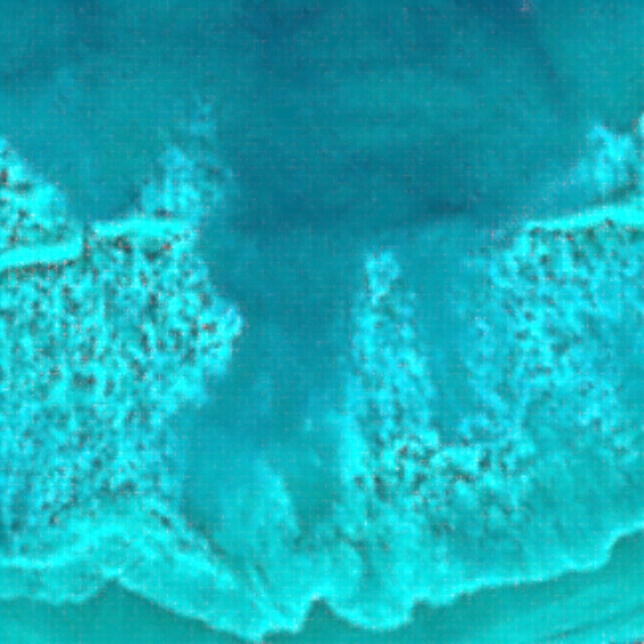rip_current: (132, 126, 415, 582)
